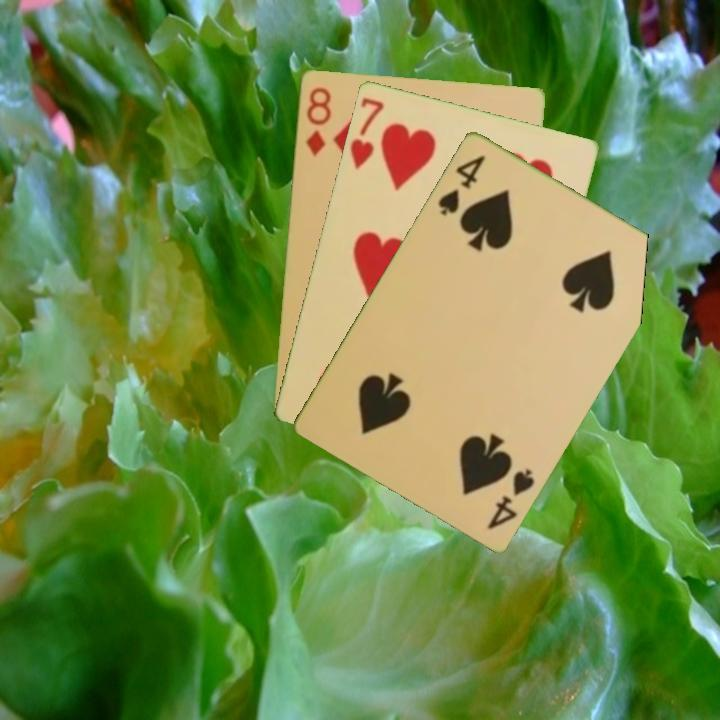4s: (434, 150, 488, 218), (484, 464, 538, 532)
7h: (346, 93, 387, 172)
8d: (302, 83, 333, 158)
